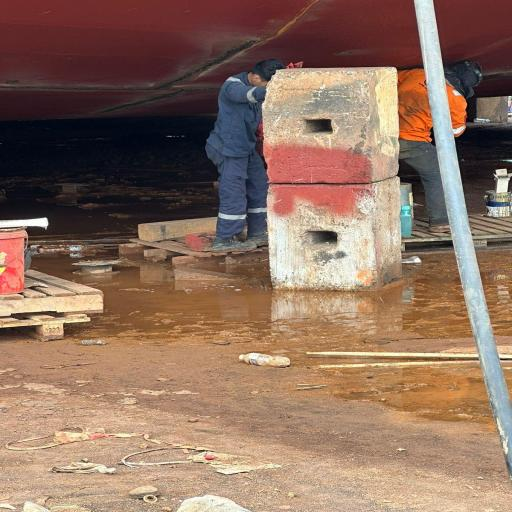safety_shoe: (210, 236, 258, 255)
